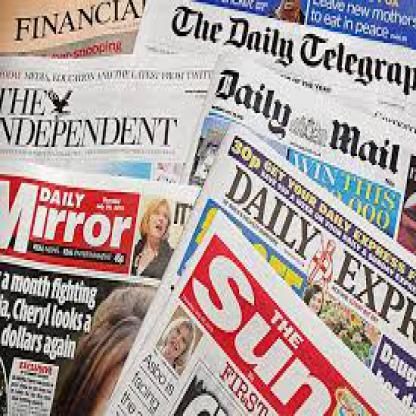paper: (116, 125, 414, 412), (104, 206, 414, 414), (178, 54, 410, 283), (0, 156, 200, 414), (0, 52, 215, 274), (131, 0, 415, 116), (0, 0, 147, 50)
